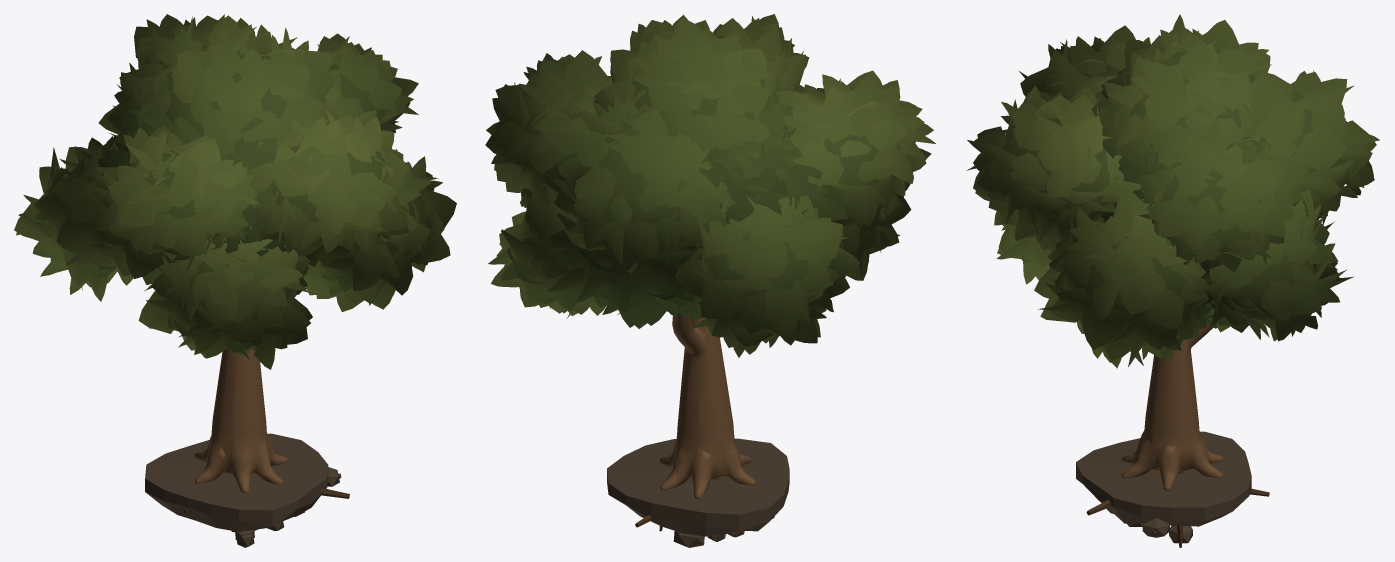
The model's file is oak_001.glb.
The picture shows the model from 3 angles, left to right: view 1: azimuth 30°, elevation 25°; view 2: azimuth 150°, elevation 25°; view 3: azimuth 270°, elevation 25°; orthographic projection. The views are drawn at different scales.
Parts seen in each view (by area): view 1: Oak_001_game.Mesh; view 2: Oak_001_game.Mesh; view 3: Oak_001_game.Mesh.
Boxes of the visible parts, left/top/right/bottom form: Oak_001_game.Mesh: left=14, top=14, right=456, bottom=547; Oak_001_game.Mesh: left=485, top=14, right=935, bottom=547; Oak_001_game.Mesh: left=966, top=14, right=1379, bottom=547.
Size of the model in its own units: 6.38 by 8.68 by 6.41.
Materials: 6 (1 with a texture image).
